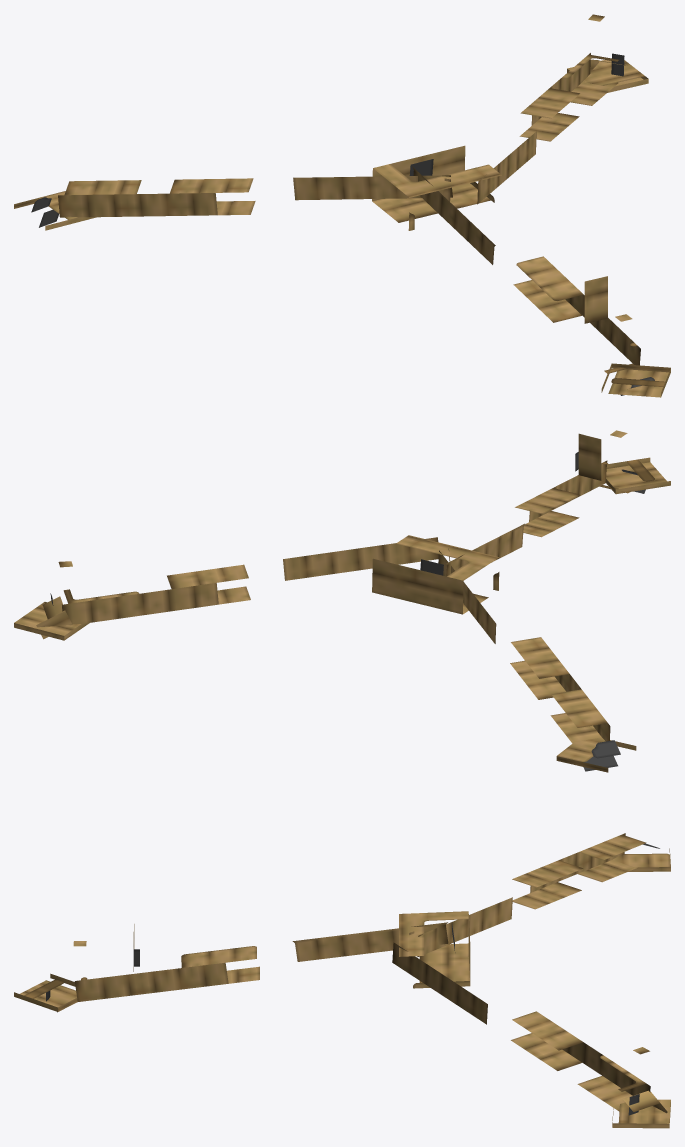
The picture shows the model from 3 angles, top to bottom: view 1: azimuth 30°, elevation 25°; view 2: azimuth 150°, elevation 25°; view 3: azimuth 270°, elevation 25°; orthographic projection. The views are drawn at different scales.
Visible parts, largest first — view 1: body; view 2: body; view 3: body.
Boxes of the visible parts, x1=… form: body: x1=14, y1=14, x2=670, y2=397; body: x1=14, y1=430, x2=670, y2=772; body: x1=14, y1=833, x2=670, y2=1128.
Bounding box in the file's own units: 6.55 × 0.8699 × 6.47.
